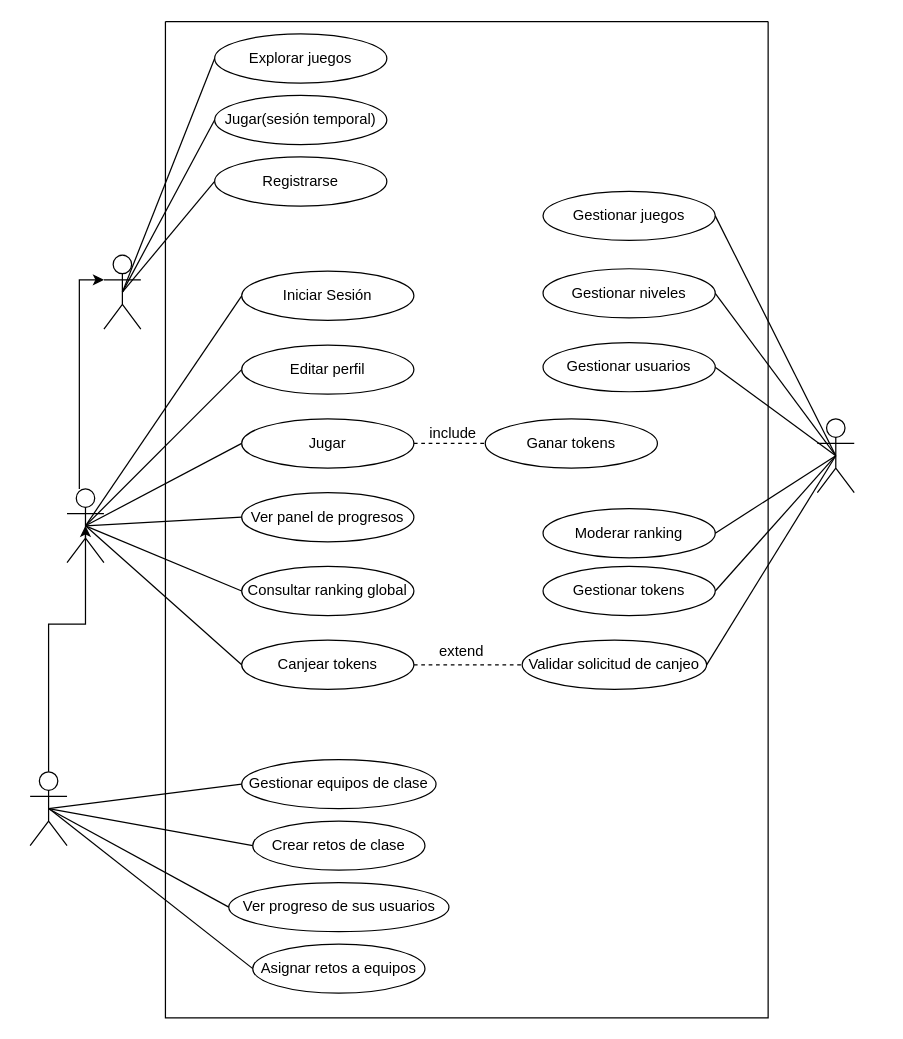
Some shapes in this 903 by 1039 pixel diagram are drawn without their labels. The centre of each missing label's shape, as x and y in pixels:
"Administrador" goes at [835,455].
"Alumno" goes at [85,525].
"Invitado" goes at [122,291].
"Profesor" goes at [48,808].
